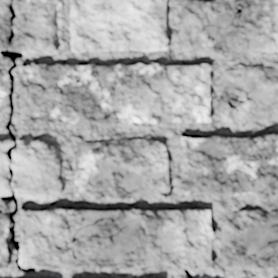brick: (19, 207, 214, 268), (19, 63, 211, 124), (179, 133, 277, 196), (74, 138, 170, 198), (70, 0, 167, 52), (179, 0, 277, 51), (220, 209, 277, 268), (218, 64, 277, 121), (0, 211, 9, 269), (0, 75, 7, 118)
broken_brick: (0, 0, 60, 51), (12, 138, 62, 197), (0, 137, 12, 195)
crack: (0, 2, 46, 275), (221, 84, 256, 112), (258, 240, 277, 251), (183, 268, 192, 277), (266, 254, 277, 261), (164, 40, 169, 47)
